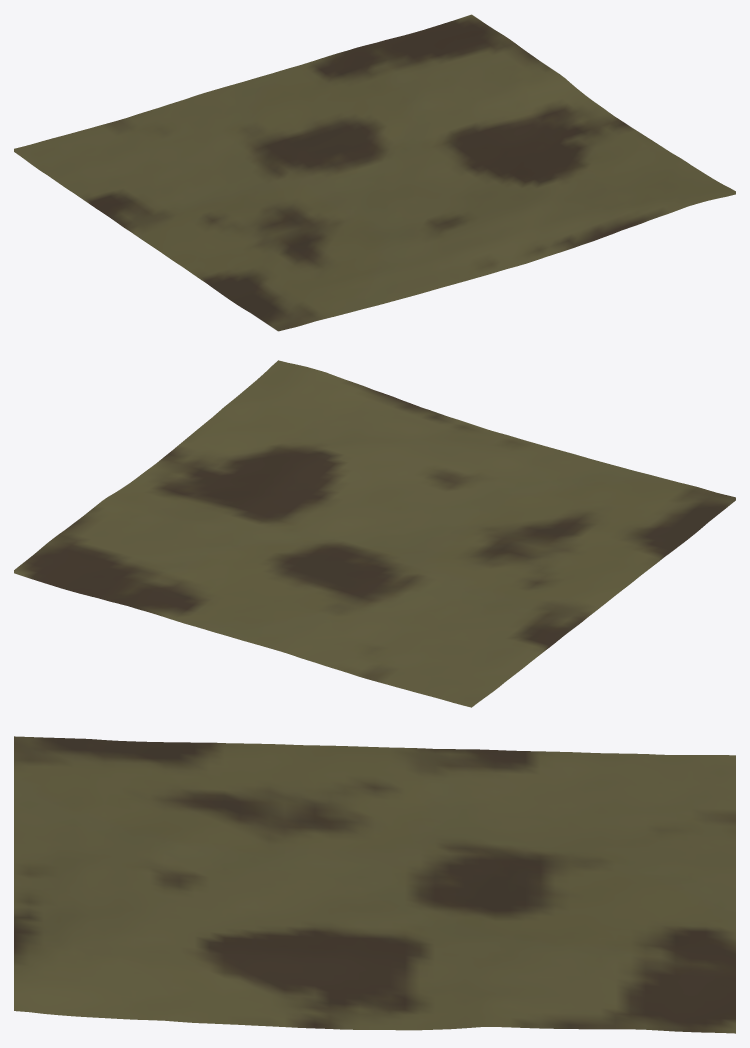
File: land_m_14_11.glb
3 renders of one model, top to bottom at view 1: azimuth 30°, elevation 25°; view 2: azimuth 150°, elevation 25°; view 3: azimuth 270°, elevation 25°, orthographic. The views are drawn at different scales.
Parts seen in each view (by area): view 1: land_m_14_11; view 2: land_m_14_11; view 3: land_m_14_11.
Boxes of the visible parts, box(x1,y1,x2,y2) form: land_m_14_11: box(14, 14, 735, 331); land_m_14_11: box(14, 360, 735, 707); land_m_14_11: box(14, 736, 735, 1033).
Size of the model in its own units: 960 by 85.41 by 960.
